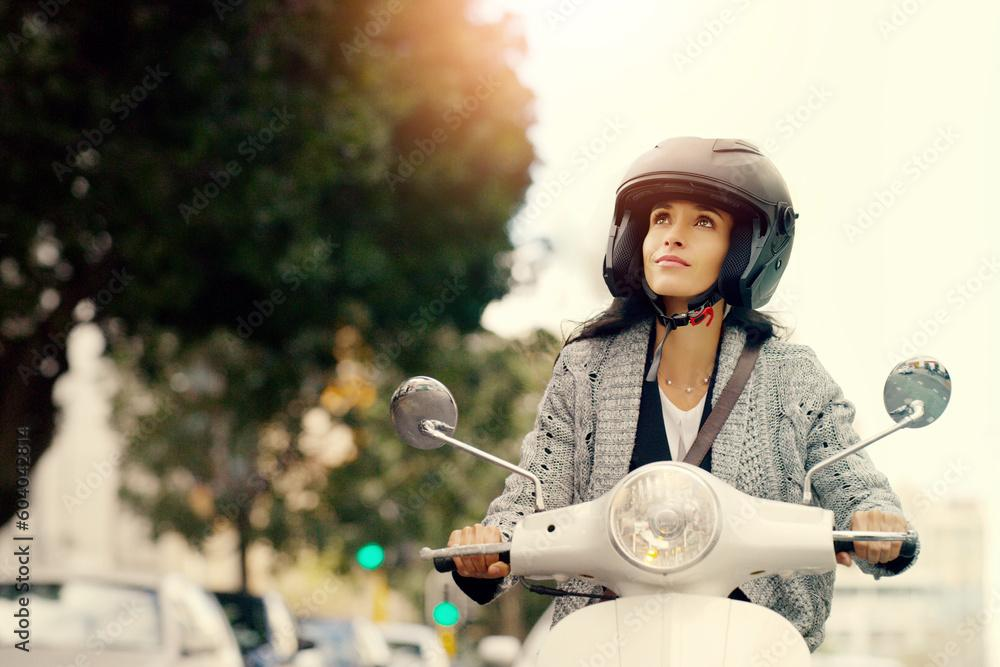helmet: (602, 134, 800, 332)
